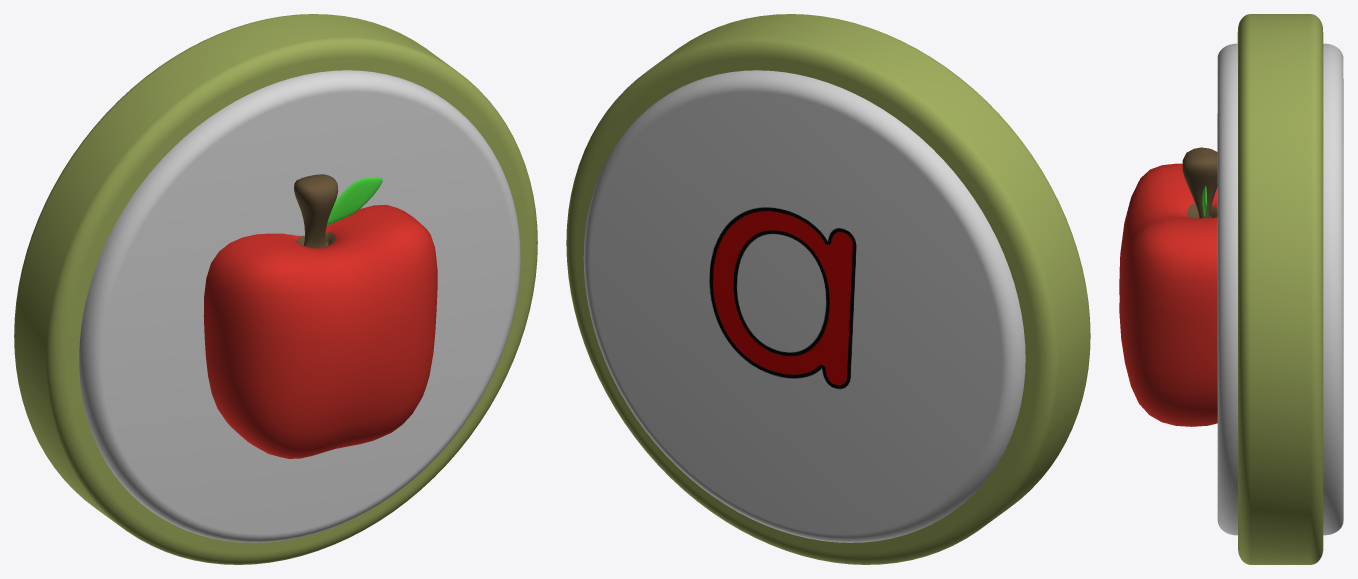
Rendered from apple.gltf.
The picture shows the model from 3 angles, left to right: view 1: azimuth 30°, elevation 25°; view 2: azimuth 150°, elevation 25°; view 3: azimuth 270°, elevation 25°; orthographic projection. The views are drawn at different scales.
Parts seen in each view (by area): view 1: Cylinder_2, Cylinder.001, Cube, Plane; view 2: Cylinder_2, Cylinder.001; view 3: Cylinder.001, Cube, Cylinder_2.
Boxes of the visible parts, left/top/right/bottom form: Cylinder_2: left=79, top=70, right=520, bottom=542; Cylinder.001: left=14, top=14, right=537, bottom=564; Cube: left=203, top=174, right=437, bottom=458; Plane: left=327, top=177, right=382, bottom=225; Cylinder_2: left=583, top=70, right=1025, bottom=542; Cylinder.001: left=566, top=14, right=1090, bottom=564; Cylinder.001: left=1237, top=14, right=1323, bottom=564; Cube: left=1119, top=147, right=1217, bottom=426; Cylinder_2: left=1217, top=43, right=1343, bottom=535.
Size of the model in its own units: 2.56 by 2.56 by 1.04.
5 materials, 1 textured.
